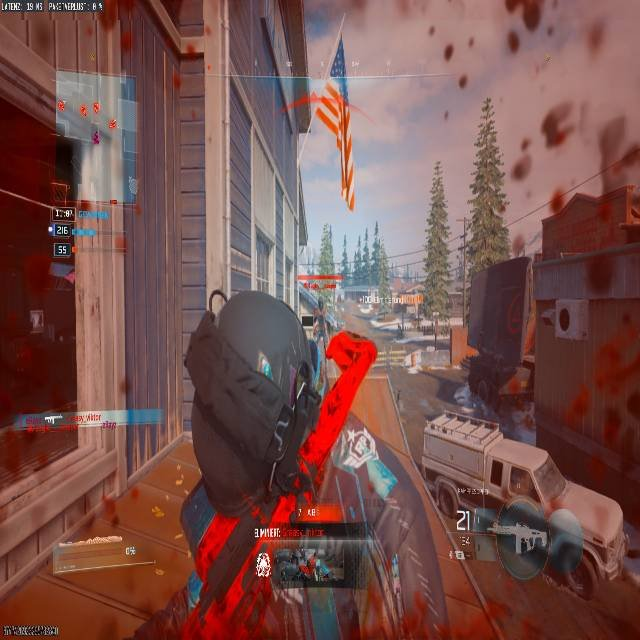player: (178, 289, 381, 635), (311, 295, 329, 351)
